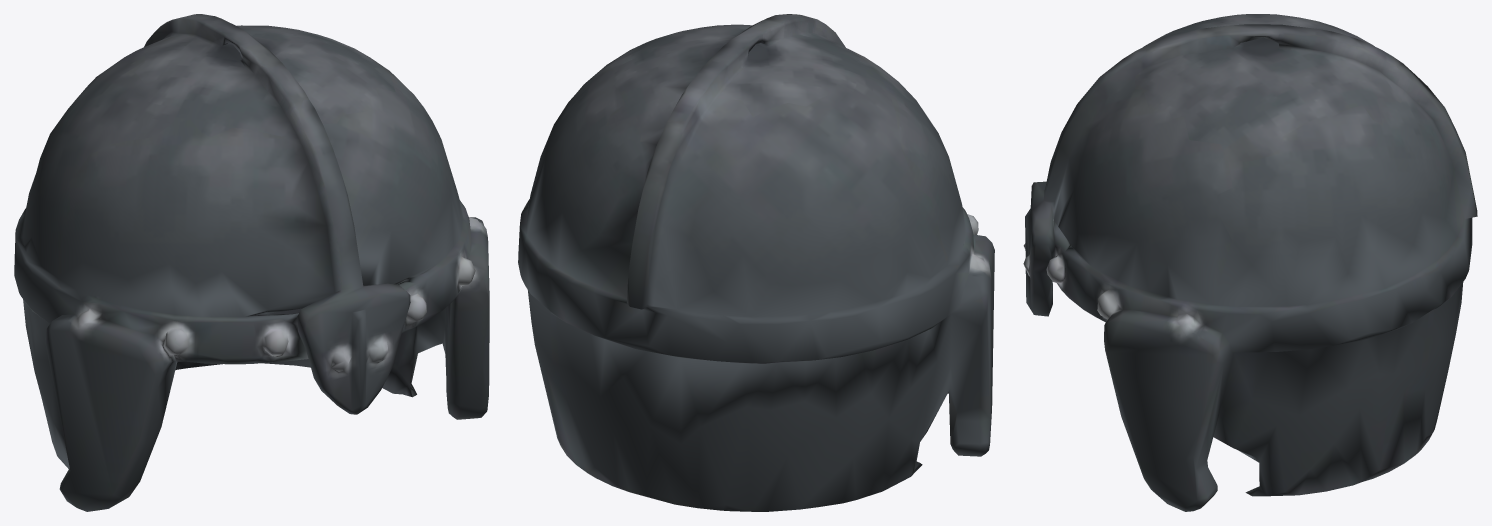
File: iron-helmet.glb
3 renders of one model, left to right at view 1: azimuth 30°, elevation 25°; view 2: azimuth 150°, elevation 25°; view 3: azimuth 270°, elevation 25°, orthographic. The views are drawn at different scales.
Visible parts, largest first — view 1: iron; view 2: iron; view 3: iron.
Part boxes in pixels (<box>): iron: <box>14,14,489,511</box>; iron: <box>518,14,994,511</box>; iron: <box>1023,14,1477,511</box>.
Bounding box in the file's own units: 0.5053 × 0.4399 × 0.4641.
Materials: 1 (1 with a texture image).
